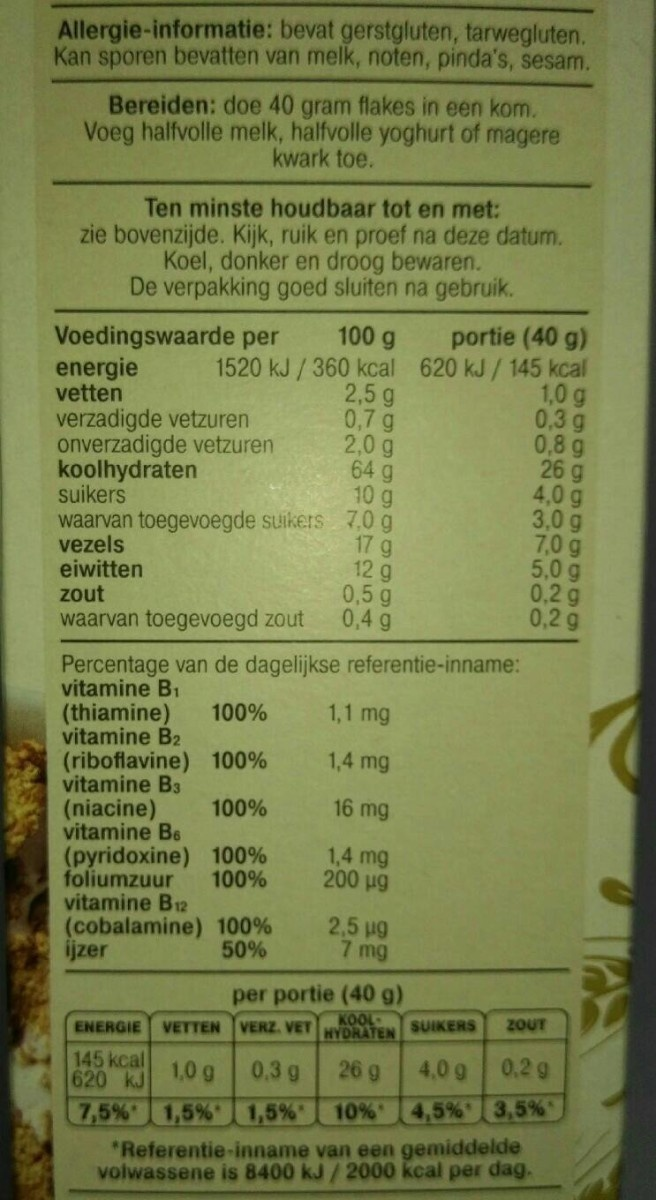column: (53, 324, 395, 634), (420, 324, 585, 633), (62, 678, 201, 968), (325, 679, 392, 968), (212, 680, 273, 967)
table: (45, 305, 592, 647), (49, 654, 583, 978)
